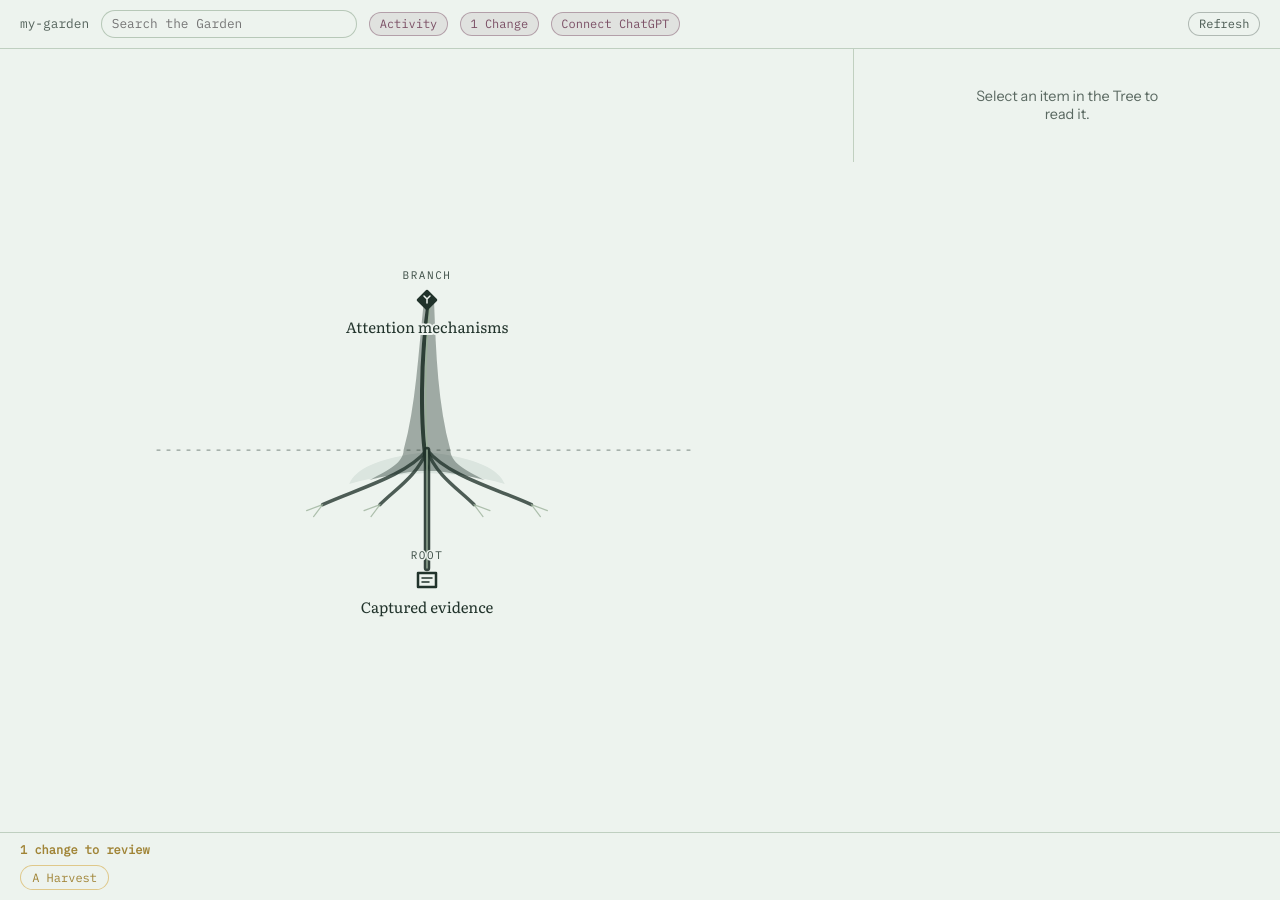
approving a change › shows a new Harvest proposal as reviewable and applies it from the real Change Tray
expect the element named "change tray" is shown: met, box [0, 832, 1279, 899]
Click the button "A Harvest" at (65, 878), box [20, 865, 109, 890]
(page scrolled)
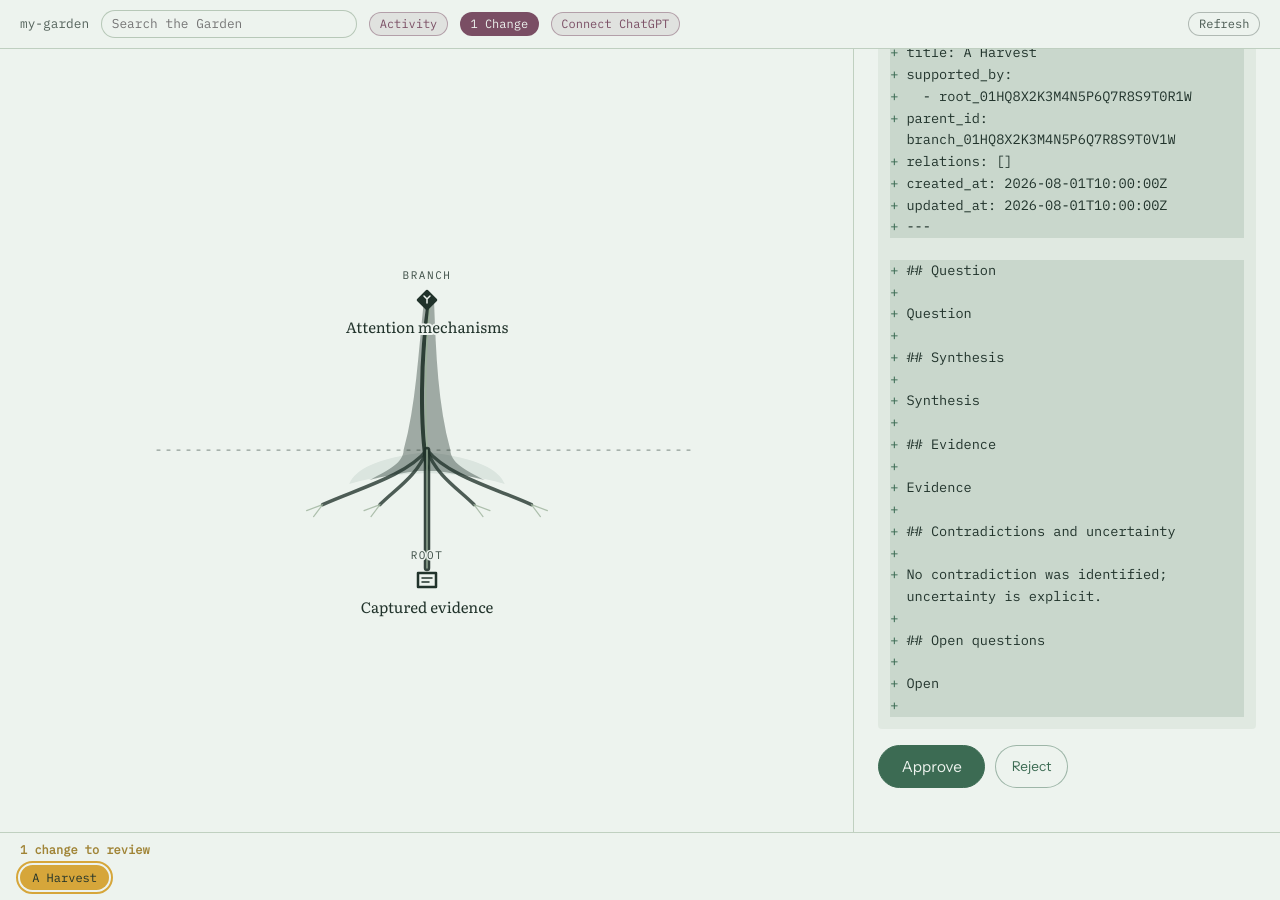
Click the button "Approve" at (932, 766), box [878, 745, 985, 788]
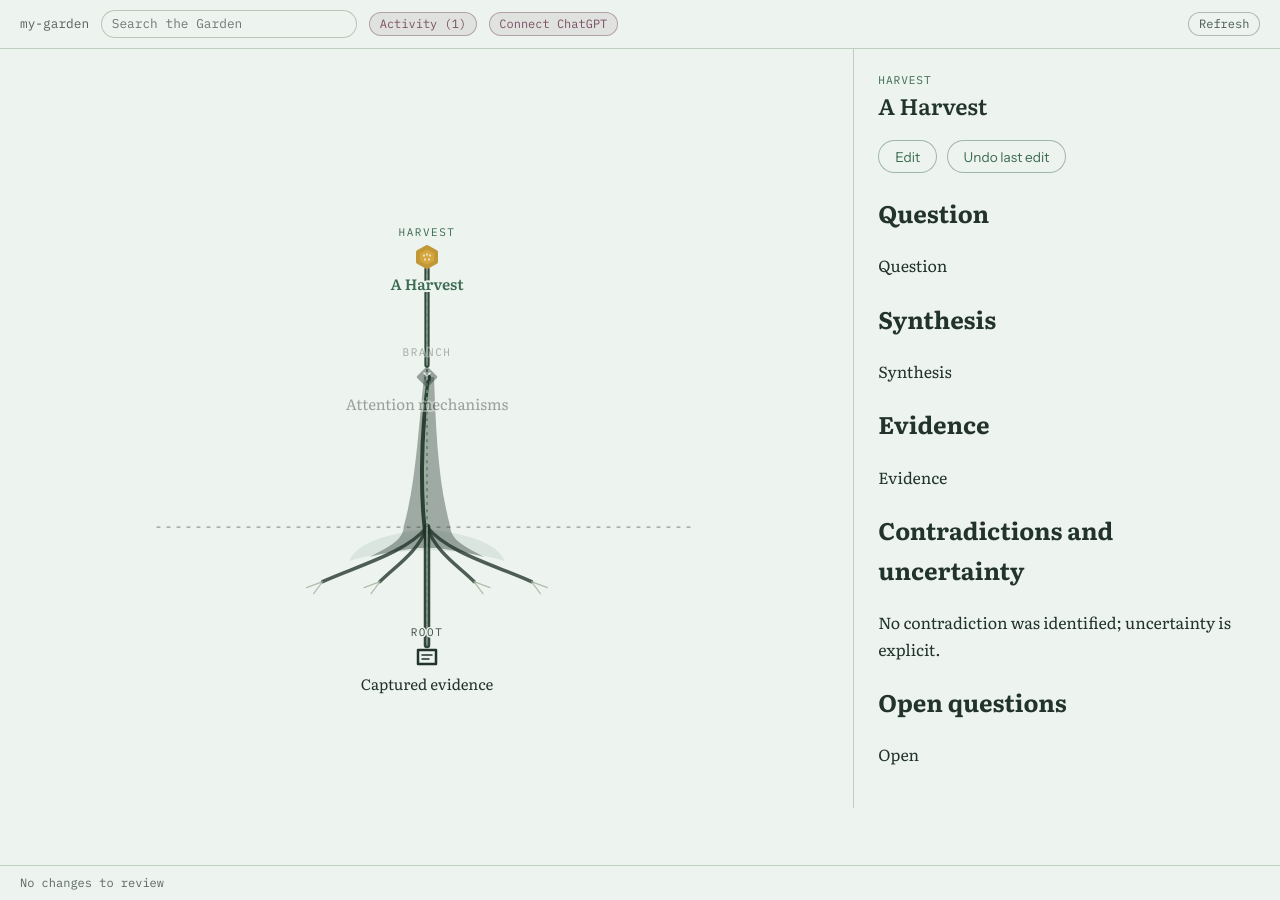
expect the text "No changes to review" is shown: met, box [0, 865, 1279, 899]
